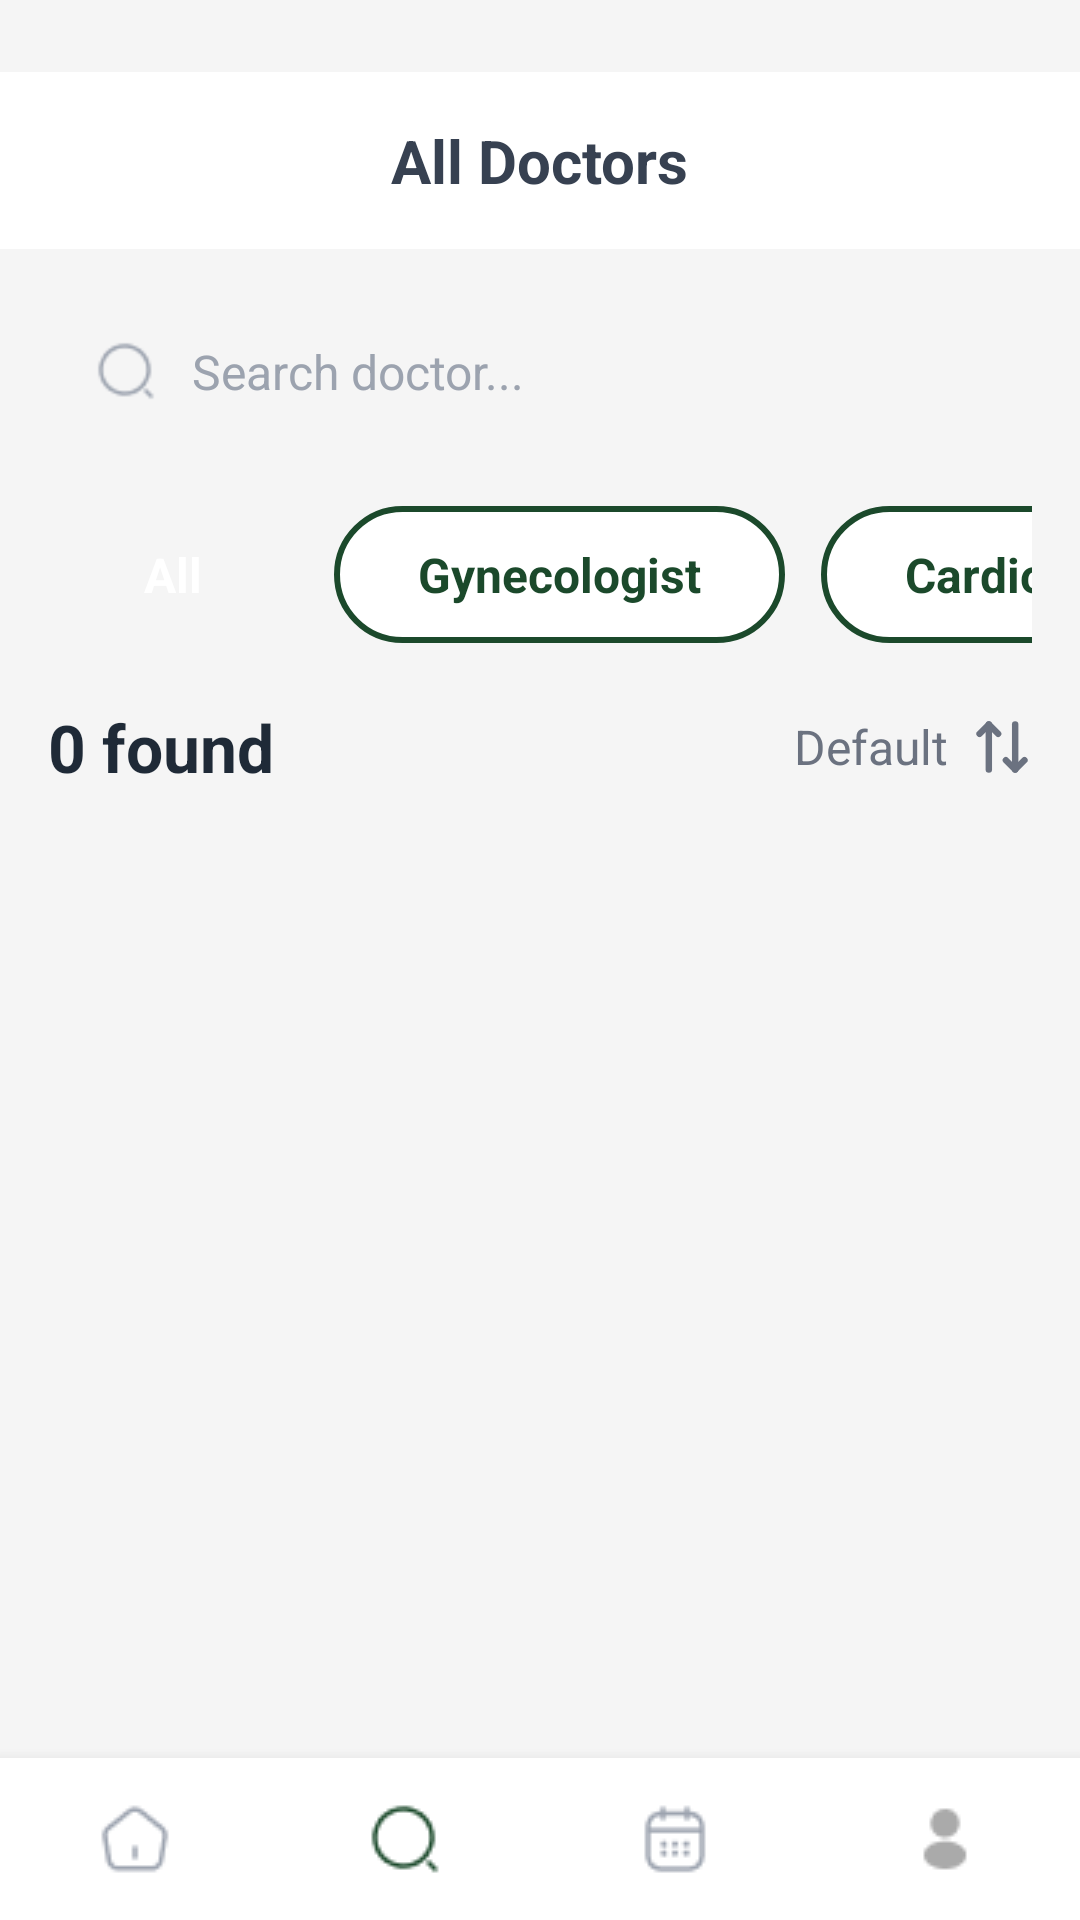

Point at icon controls on the screen. Image size 1080px×1920px, points as (x=x, y=y).
arrow: (x=1002, y=747)
calendar: (x=675, y=1839)
home: (x=135, y=1839)
profile: (x=945, y=1839)
